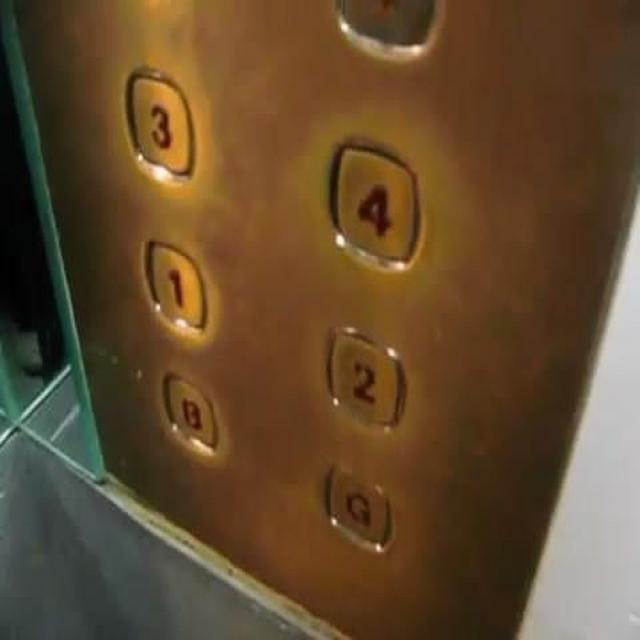1: (138, 231, 211, 337)
2: (321, 319, 405, 436)
3: (121, 64, 196, 180)
4: (324, 135, 424, 277)
B: (157, 365, 220, 459)
G: (321, 452, 394, 552)
